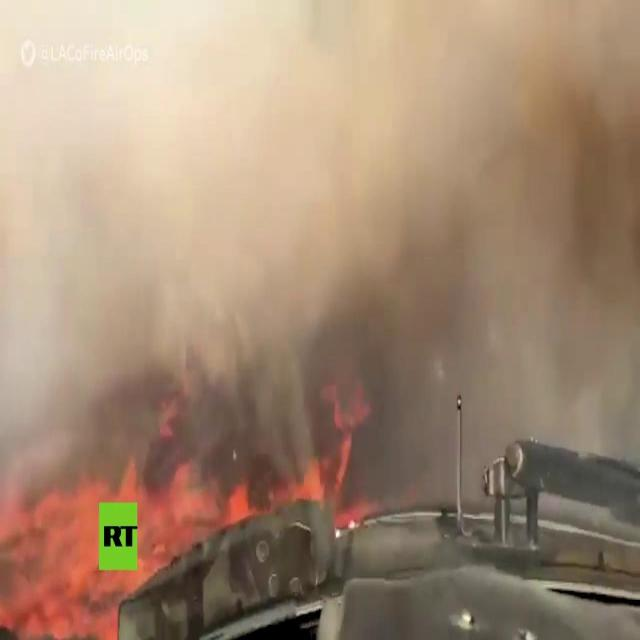Fire: (6, 388, 358, 639)
